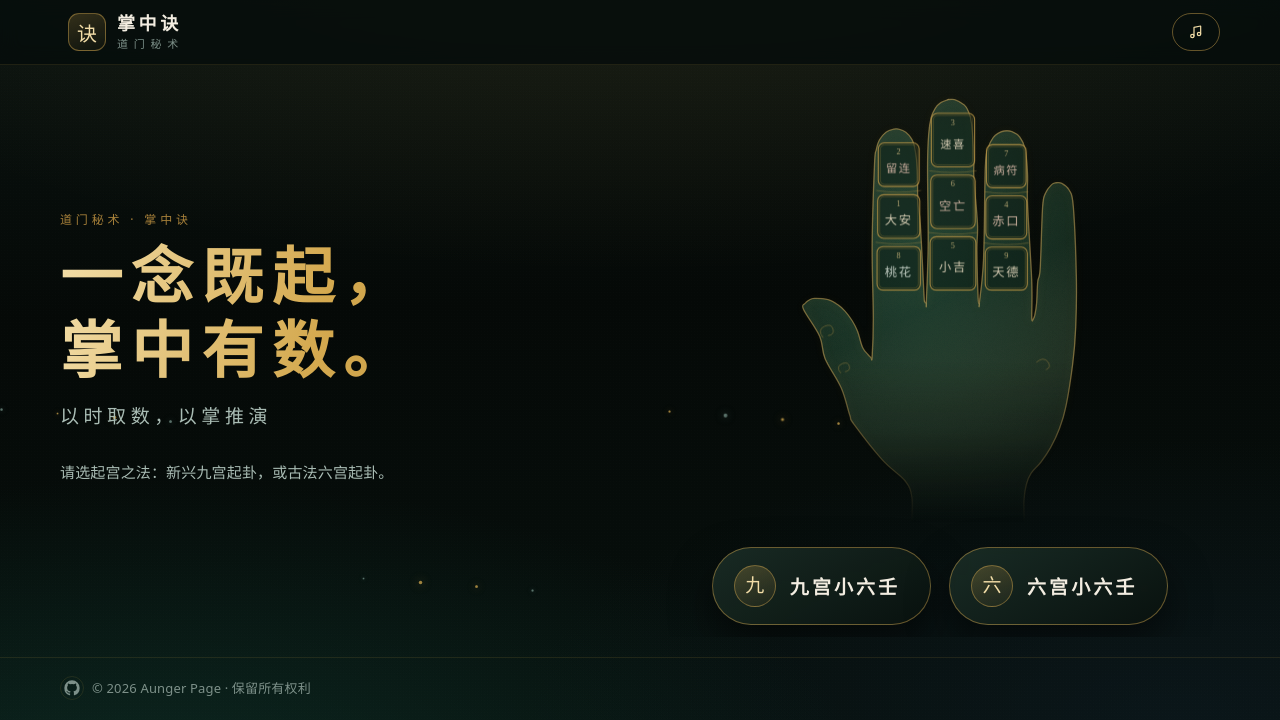
Test: 门厅与首页 › 门厅：选六宫进入六宫首页（六宫掌图 + 时辰/心念两入口）
What coordinates should you click on to do the following:
click the button with test id "gate-six"
I would click on:
 (1059, 586)
Its box is [949, 547, 1168, 625].
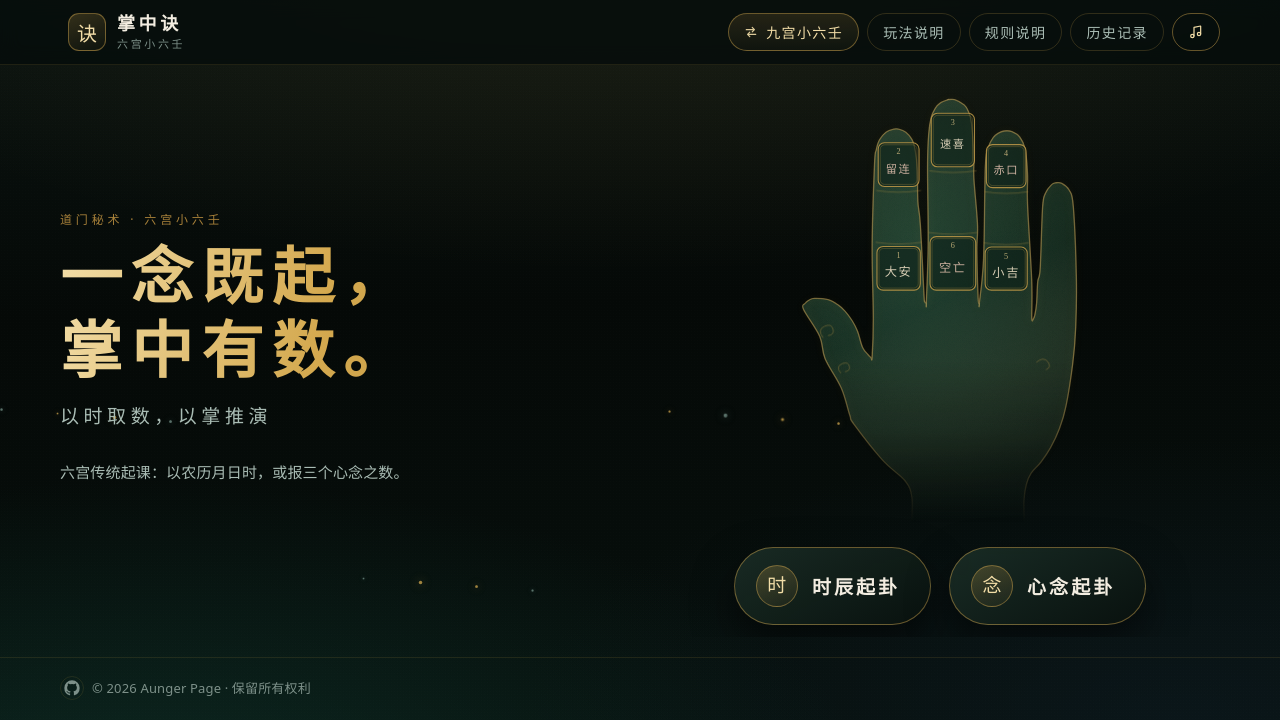
expect the text "时辰起卦" is shown: met, box [812, 572, 900, 600]
expect the text "心念起卦" is shown: met, box [1027, 572, 1115, 600]
expect the button with test id "six-entry-calendar" is shown: met
What coordinates should you click on to do the following:
click the button with test id "six-entry-calendar"
I would click on:
 (832, 586)
Its box is [734, 547, 931, 625].
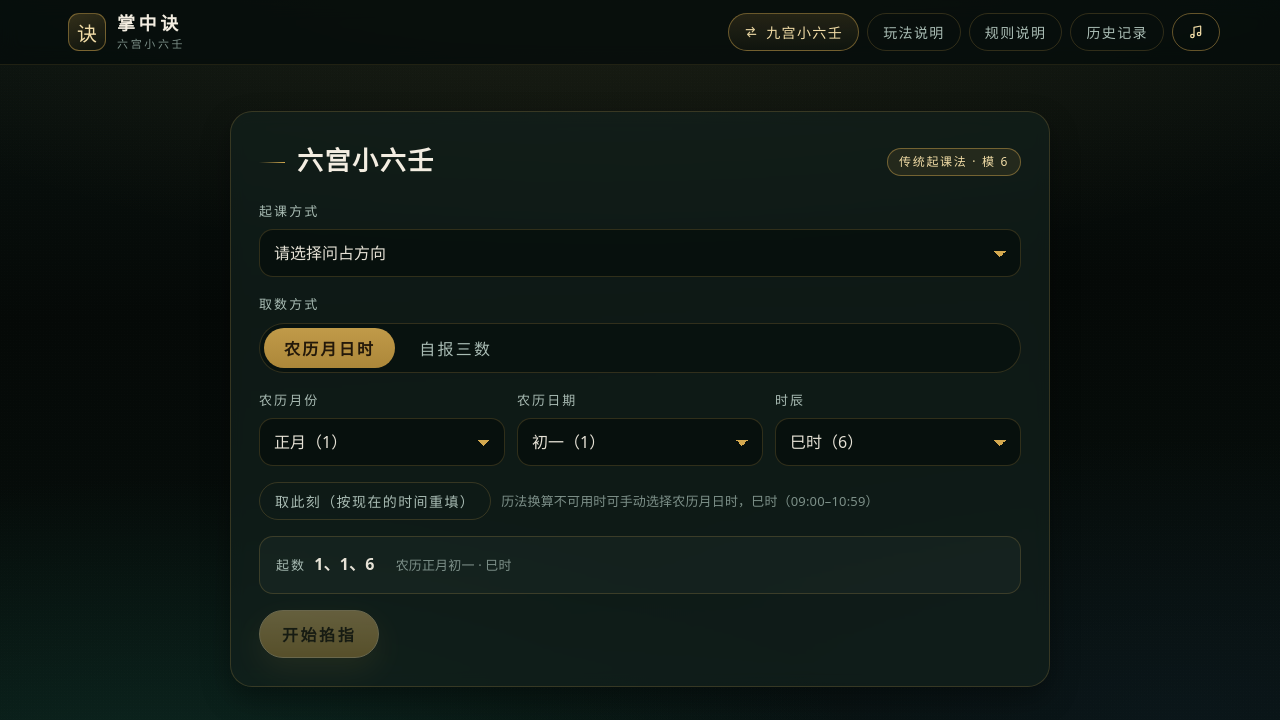
expect the dropdown with test id "six-basis" is shown: met, box [259, 229, 1021, 277]
